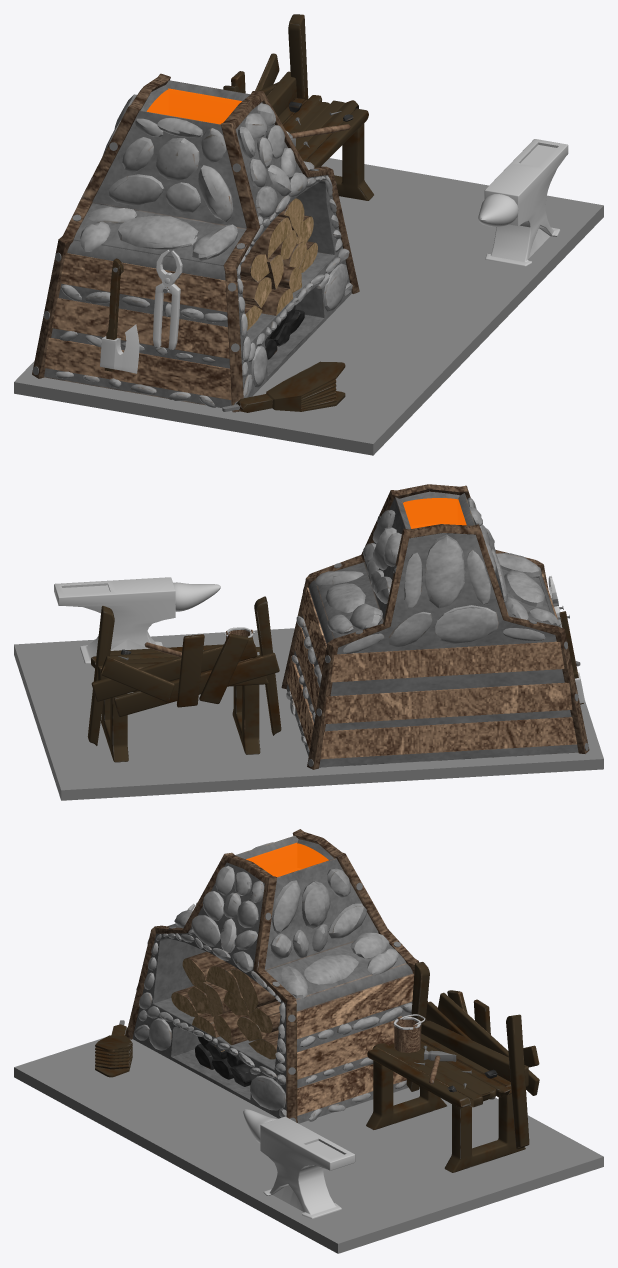
Rendered from forge.glb.
The picture shows the model from 3 angles, top to bottom: view 1: azimuth 30°, elevation 25°; view 2: azimuth 150°, elevation 25°; view 3: azimuth 270°, elevation 25°; orthographic projection. The views are drawn at different scales.
Parts seen in each view (by area): view 1: Cube.001_0; view 2: Cube.001_0; view 3: Cube.001_0.
Boxes of the visible parts, x1,y1,x2,y2 form: Cube.001_0: (14,14,603,455); Cube.001_0: (14,484,603,800); Cube.001_0: (14,829,603,1253).
Bounding box in the file's own units: 45.09 × 17.37 × 42.63.
13 materials, 9 textured.
